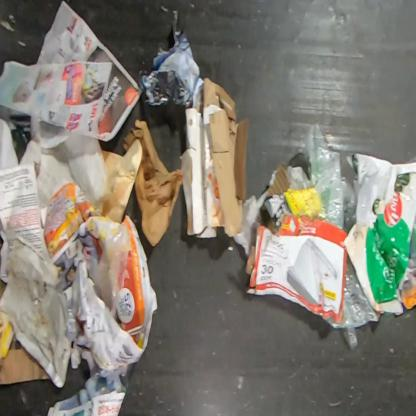cardboard: (244, 215, 348, 330), (179, 77, 250, 239), (264, 162, 314, 230), (0, 340, 53, 385)
soft_plastic: (339, 152, 415, 318), (294, 122, 357, 234), (88, 225, 131, 319), (342, 253, 382, 350), (409, 150, 416, 258)
